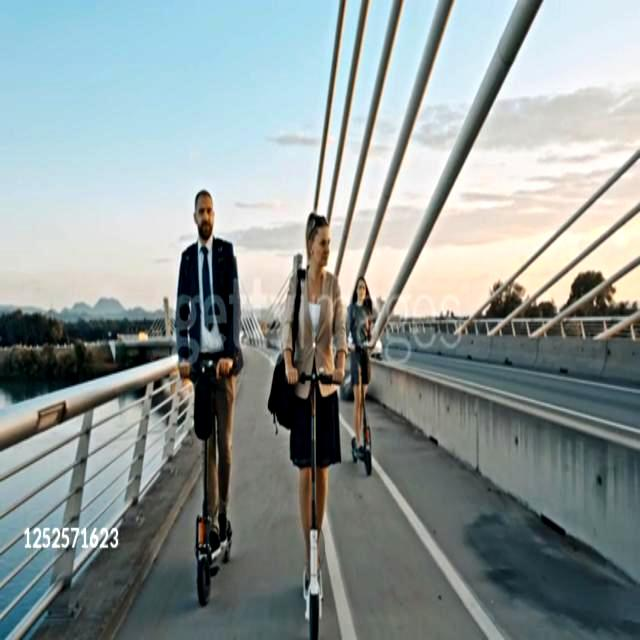bare_head: (173, 187, 235, 245), (299, 220, 344, 266)
human: (160, 182, 240, 530), (290, 206, 345, 582)
kickboard: (290, 546, 356, 637), (181, 539, 259, 610)
